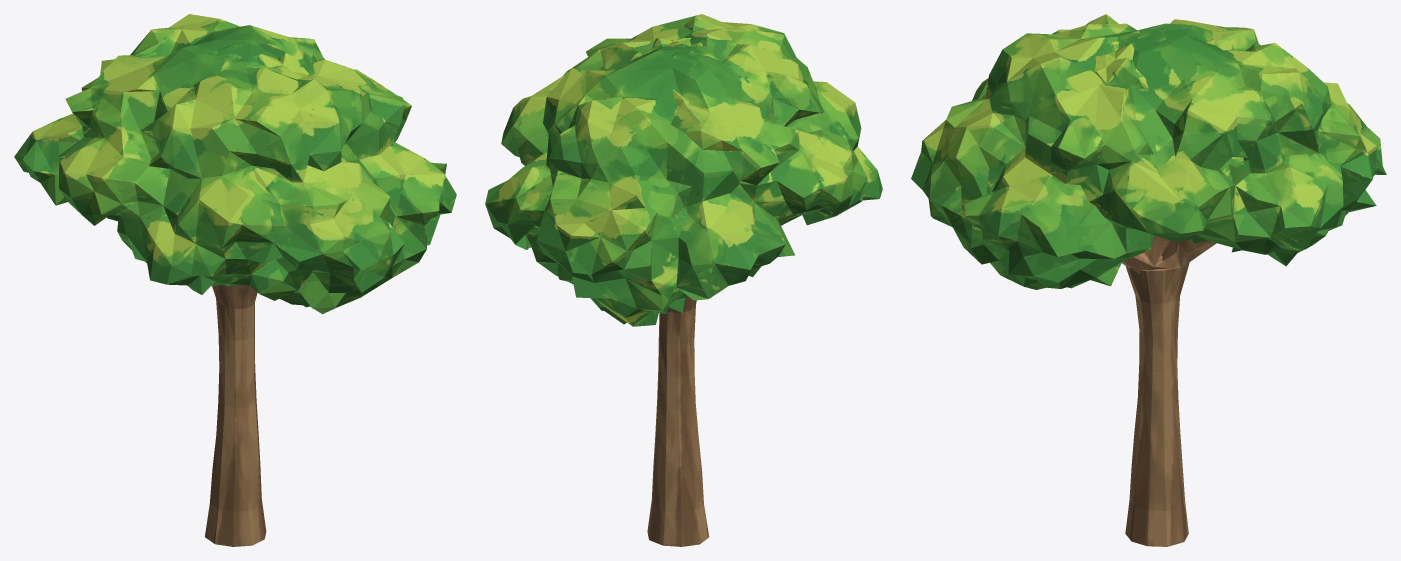
The model's file is tree_round_b.glb.
3 renders of one model, left to right at view 1: azimuth 30°, elevation 25°; view 2: azimuth 150°, elevation 25°; view 3: azimuth 270°, elevation 25°, orthographic. The views are drawn at different scales.
Visible parts, largest first — view 1: body; view 2: body; view 3: body.
Boxes of the visible parts, box(x1,y1,x2,y2) form: body: box(14, 14, 456, 546); body: box(485, 14, 882, 546); body: box(911, 14, 1386, 546).
Size of the model in its own units: 3.18 by 4.38 by 3.81.
Materials: 2 (2 with a texture image).
